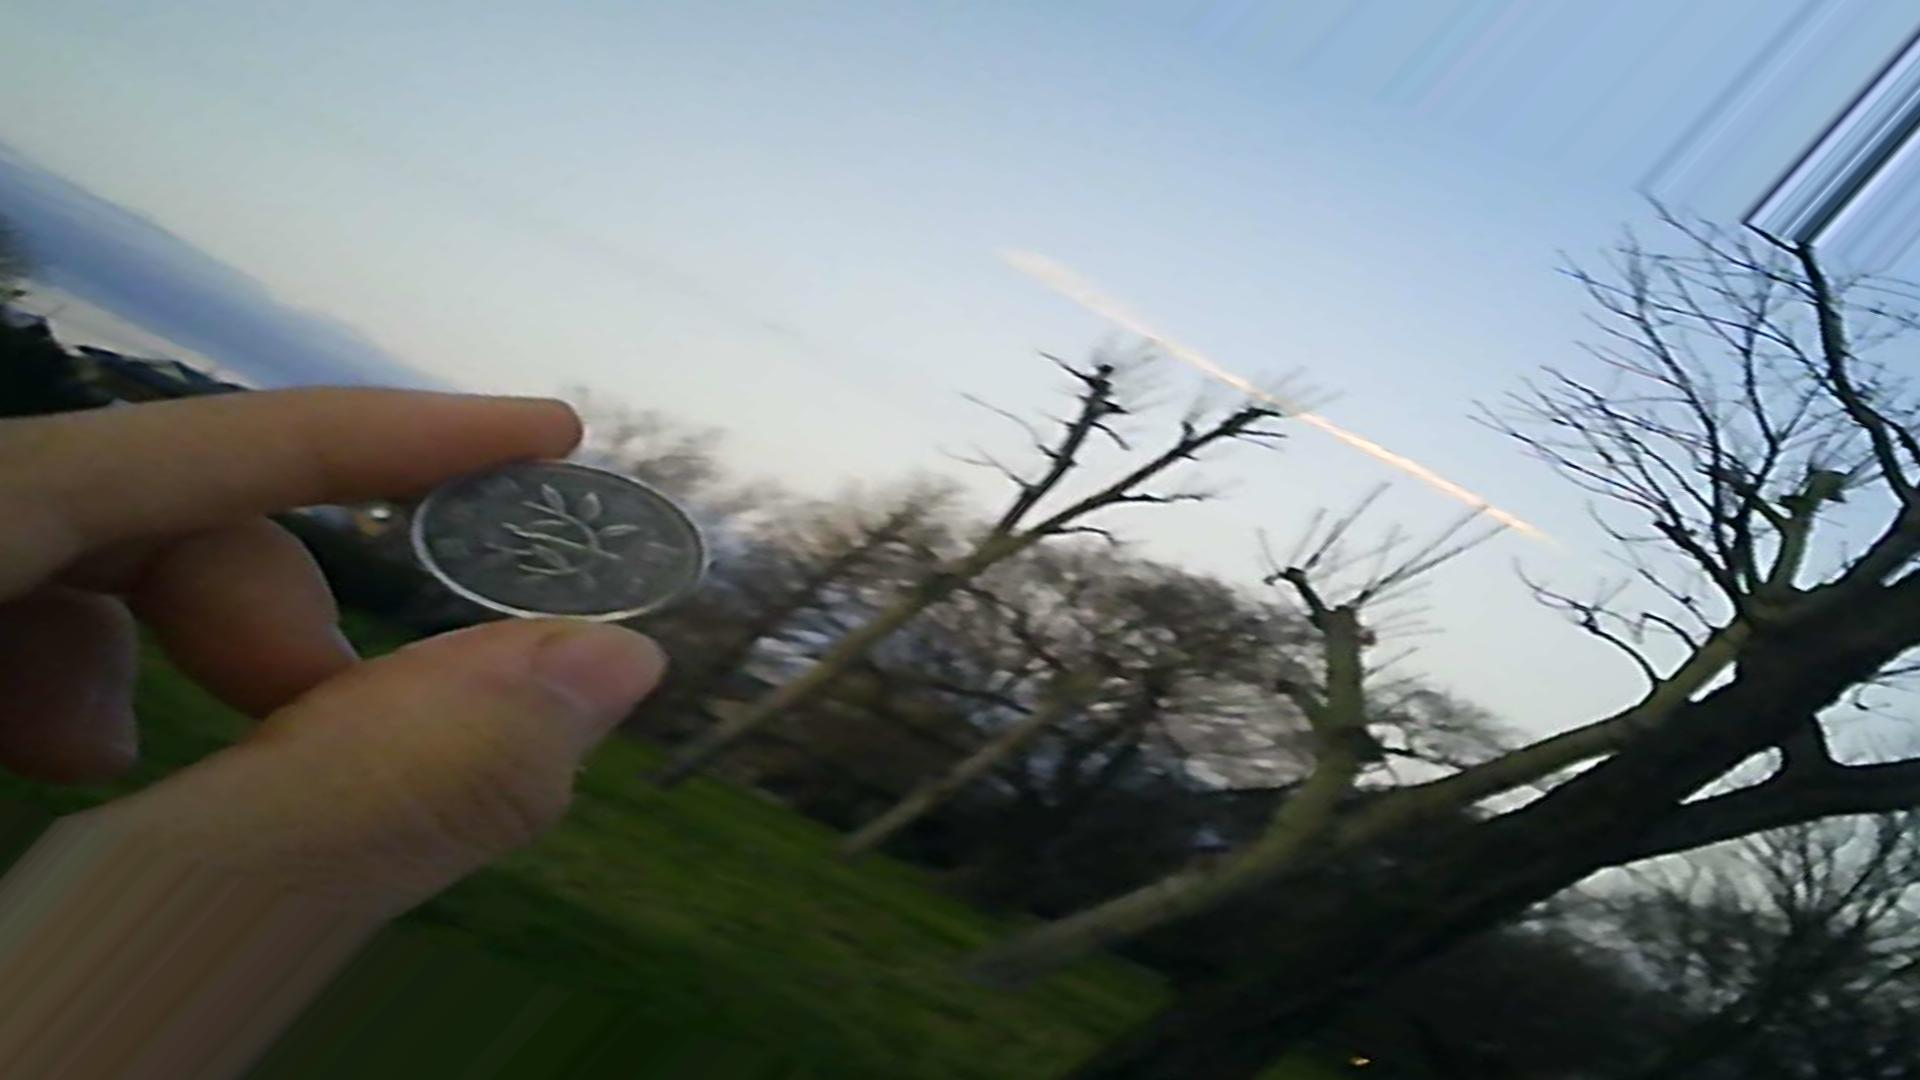1 Yen: (393, 451, 696, 616)
